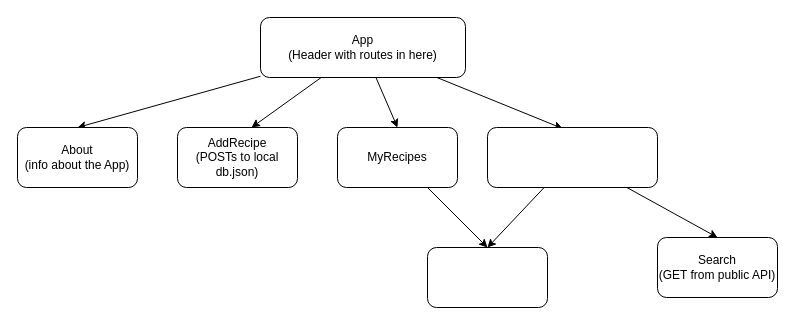
The diagram is 795 pixels wide and 325 high, and some of its shapes have lost their labels. Each missing label, with the centre of its shape:
"Recipe Card" goes at point (487, 277).
"RecipeList" goes at point (572, 157).
